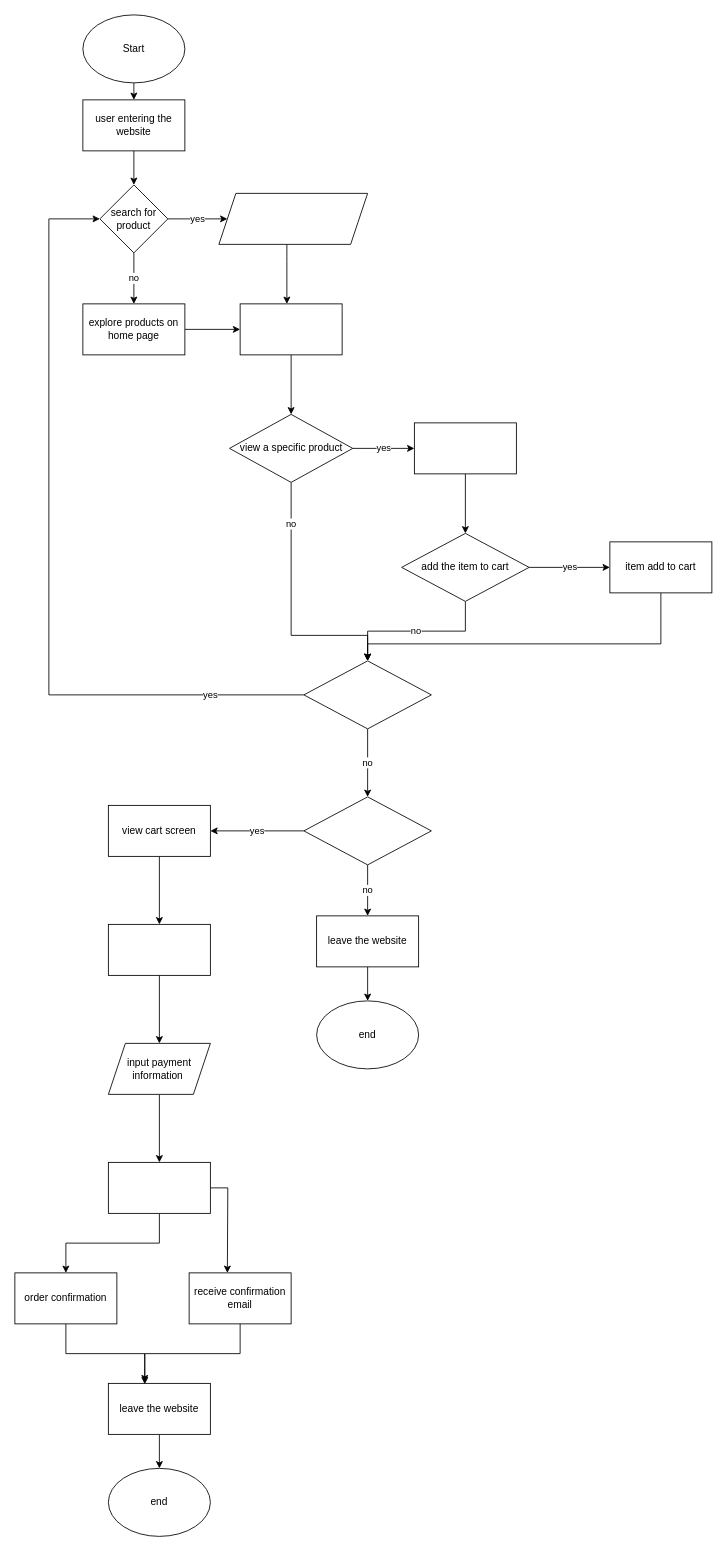
The diagram is 727 pixels wide and 1551 high, and some of its shapes have lost their labels. The box of each missing label's shape, as (x1, y1, x2, y2) in pixels:
begin looking over products: (239, 303, 342, 355)
check out: (303, 796, 431, 865)
continue shopping: (303, 660, 431, 729)
pay: (108, 1162, 210, 1213)
provides input for the search: (218, 193, 368, 244)
the product's webpage opens: (414, 422, 516, 474)
view payment screen: (108, 924, 210, 975)
